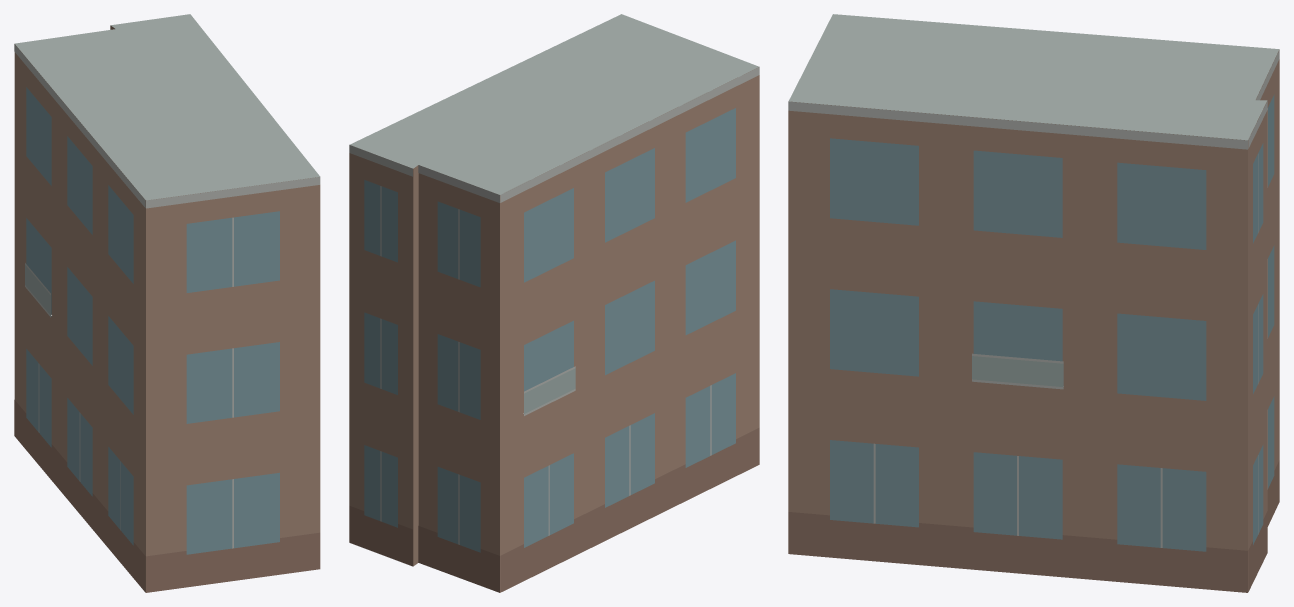
The model's file is survey-upis-32481354.glb.
3 views of the same model, side by side, from view 1: azimuth 30°, elevation 25°; view 2: azimuth 150°, elevation 25°; view 3: azimuth 270°, elevation 25° (orthographic). The views are drawn at different scales.
Parts seen in each view (by area): view 1: survey-upis-32481354.tmp; view 2: survey-upis-32481354.tmp; view 3: survey-upis-32481354.tmp.
Part boxes in pixels (left/top/right/bottom): survey-upis-32481354.tmp: left=14, top=14, right=320, bottom=592; survey-upis-32481354.tmp: left=349, top=14, right=759, bottom=592; survey-upis-32481354.tmp: left=788, top=14, right=1279, bottom=592.
Size of the model in its own units: 7.13 by 11.9 by 11.72.
